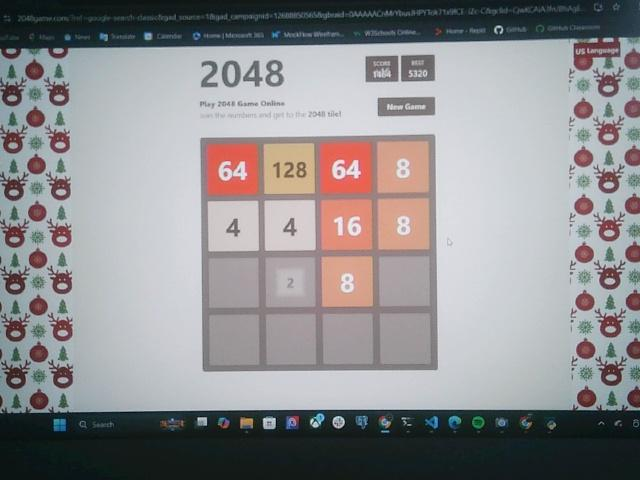board: (201, 137, 435, 370)
tile: (378, 141, 429, 194), (379, 198, 429, 251), (321, 256, 374, 306), (321, 143, 372, 194), (321, 199, 372, 250), (208, 144, 258, 195), (208, 201, 259, 251), (265, 144, 315, 194), (265, 202, 316, 251)
